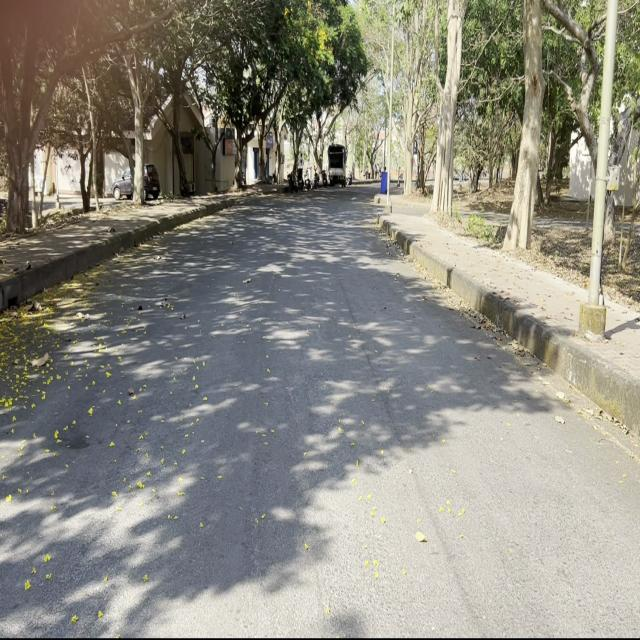Object: (325, 141, 349, 190)
Road: (2, 193, 633, 634)
